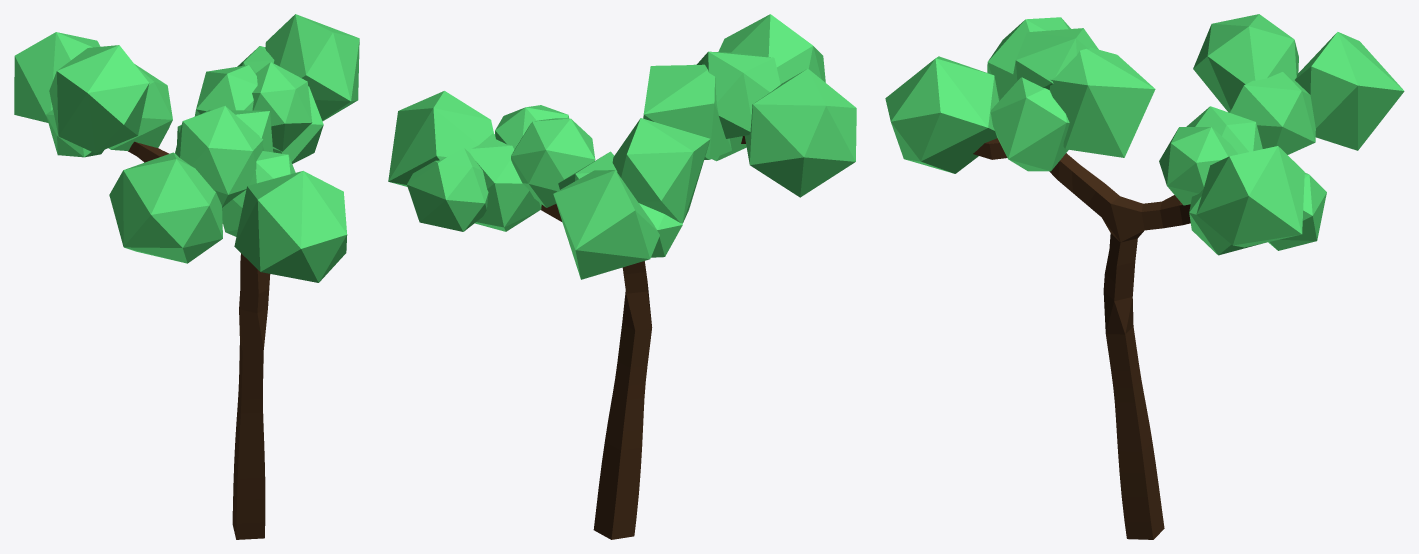
Rendered from drzewo2.fbx.
3 views of the same model, side by side, from view 1: azimuth 30°, elevation 25°; view 2: azimuth 150°, elevation 25°; view 3: azimuth 270°, elevation 25° (orthographic).
Parts seen in each view (by area): view 1: Sphere.010, Sphere.008, Cube, Sphere.012, Sphere, Sphere.009, Sphere.002, Sphere.003, Sphere.004, Sphere.013, Sphere.011, Sphere.006 (+3 smaller); view 2: Sphere.008, Cube, Sphere.002, Sphere.012, Sphere, Sphere.007, Sphere.001, Sphere.004, Sphere.009, Sphere.006, Sphere.010, Sphere.003 (+2 smaller); view 3: Cube, Sphere.010, Sphere, Sphere.007, Sphere.002, Sphere.012, Sphere.011, Sphere.013, Sphere.003, Sphere.009, Sphere.008, Sphere.004 (+2 smaller).
Boxes of the visible parts, x1=… form: Sphere.010: x1=234, y1=171, x2=347, y2=282; Sphere.008: x1=109, y1=152, x2=222, y2=263; Cube: x1=128, y1=141, x2=270, y2=539; Sphere.012: x1=49, y1=45, x2=149, y2=153; Sphere: x1=265, y1=14, x2=359, y2=121; Sphere.009: x1=175, y1=106, x2=263, y2=207; Sphere.002: x1=14, y1=32, x2=100, y2=122; Sphere.003: x1=252, y1=62, x2=312, y2=151; Sphere.004: x1=194, y1=65, x2=257, y2=116; Sphere.013: x1=108, y1=64, x2=172, y2=150; Sphere.011: x1=222, y1=151, x2=295, y2=236; Sphere.006: x1=273, y1=86, x2=323, y2=163; Sphere.008: x1=744, y1=69, x2=856, y2=197; Cube: x1=541, y1=136, x2=745, y2=539; Sphere.002: x1=553, y1=170, x2=659, y2=279; Sphere.012: x1=612, y1=118, x2=710, y2=223; Sphere: x1=388, y1=91, x2=493, y2=186; Sphere.007: x1=643, y1=64, x2=731, y2=159; Sphere.001: x1=407, y1=148, x2=488, y2=231; Sphere.004: x1=511, y1=118, x2=595, y2=207; Sphere.009: x1=696, y1=51, x2=780, y2=138; Sphere.006: x1=470, y1=133, x2=541, y2=231; Sphere.010: x1=718, y1=14, x2=825, y2=83; Sphere.003: x1=495, y1=105, x2=568, y2=149; Cube: x1=973, y1=138, x2=1190, y2=539; Sphere.010: x1=885, y1=56, x2=998, y2=173; Sphere: x1=1196, y1=146, x2=1304, y2=247; Sphere.007: x1=1049, y1=47, x2=1155, y2=157; Sphere.002: x1=1295, y1=32, x2=1404, y2=150; Sphere.012: x1=1193, y1=14, x2=1298, y2=112; Sphere.011: x1=990, y1=77, x2=1069, y2=171; Sphere.013: x1=1230, y1=72, x2=1315, y2=154; Sphere.003: x1=1159, y1=127, x2=1237, y2=205; Sphere.009: x1=1011, y1=28, x2=1098, y2=89; Sphere.008: x1=987, y1=17, x2=1070, y2=100; Sphere.004: x1=1186, y1=106, x2=1262, y2=154.
Bounding box in the file's own units: 934 × 1216 × 1215.
